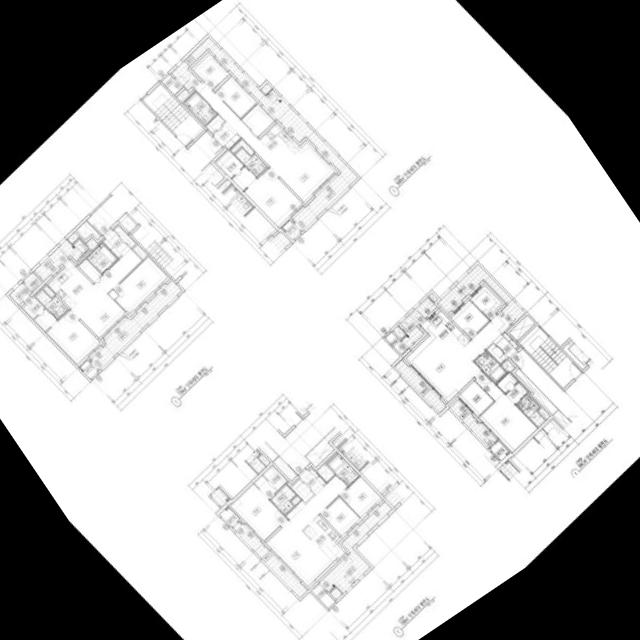background: (0, 0, 640, 640)
space_balconi: (171, 37, 358, 231), (89, 280, 182, 370), (319, 501, 392, 593), (232, 520, 307, 597), (438, 264, 525, 324), (394, 359, 446, 413), (34, 239, 89, 281), (449, 400, 496, 448), (398, 297, 437, 348), (9, 282, 31, 305)
space_bedroom: (475, 371, 537, 452), (244, 168, 302, 226), (230, 483, 286, 540), (113, 257, 167, 313), (46, 310, 100, 364), (215, 76, 256, 118), (340, 476, 381, 517), (320, 497, 359, 536), (451, 300, 489, 338), (193, 54, 229, 89), (470, 285, 501, 319)
space_dressroom: (215, 150, 256, 190), (23, 297, 57, 331), (254, 465, 287, 498), (497, 372, 527, 403)
space_front: (102, 226, 135, 259), (213, 121, 241, 149), (298, 467, 326, 494), (493, 332, 518, 356)
space_kitchen: (421, 310, 470, 358), (47, 259, 93, 307), (301, 515, 344, 562), (259, 123, 300, 164)
space_living_room: (195, 82, 334, 201), (406, 313, 509, 401), (266, 475, 347, 586), (69, 248, 142, 338)
space_multipurpose_space: (458, 380, 493, 416)
space_other: (514, 368, 558, 415), (241, 104, 274, 136), (509, 315, 535, 340), (311, 583, 335, 608), (78, 258, 101, 282), (291, 479, 314, 502), (385, 332, 407, 355), (76, 221, 100, 239), (161, 74, 182, 94), (486, 343, 506, 363), (230, 139, 254, 155), (117, 213, 136, 232), (23, 272, 42, 291), (206, 114, 224, 132), (317, 464, 335, 482), (132, 245, 147, 259), (176, 88, 189, 101), (501, 359, 514, 371), (67, 231, 79, 244), (393, 326, 405, 338), (43, 285, 55, 297), (330, 587, 342, 599), (260, 83, 272, 94), (86, 239, 98, 250), (538, 408, 549, 419), (291, 495, 301, 505), (428, 293, 437, 302)
space_outdoor_room: (219, 506, 239, 527), (281, 220, 301, 240), (490, 441, 509, 460), (79, 360, 98, 379)
space_staircase: (519, 325, 581, 388), (142, 83, 204, 146)
space_toilet: (326, 453, 359, 486), (184, 91, 217, 124), (474, 350, 507, 383), (234, 147, 267, 177), (35, 289, 68, 319), (86, 242, 117, 273), (516, 394, 545, 427), (270, 484, 296, 515)
